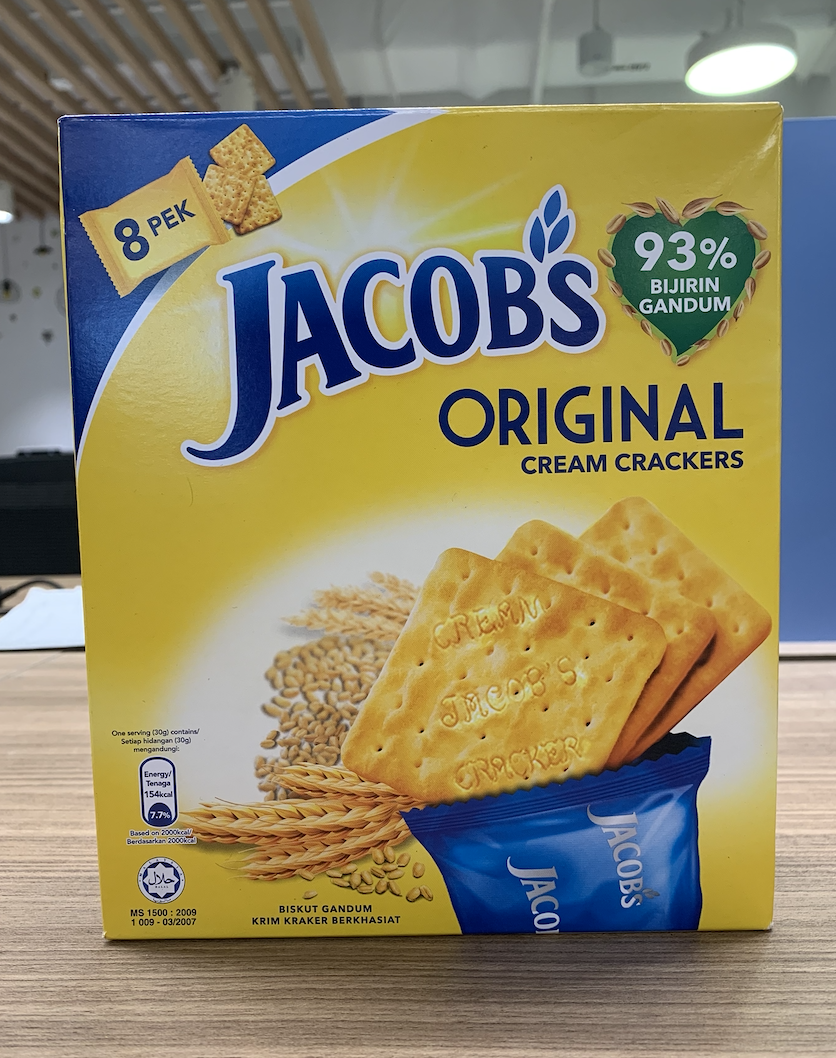halal: (143, 864, 177, 896)
